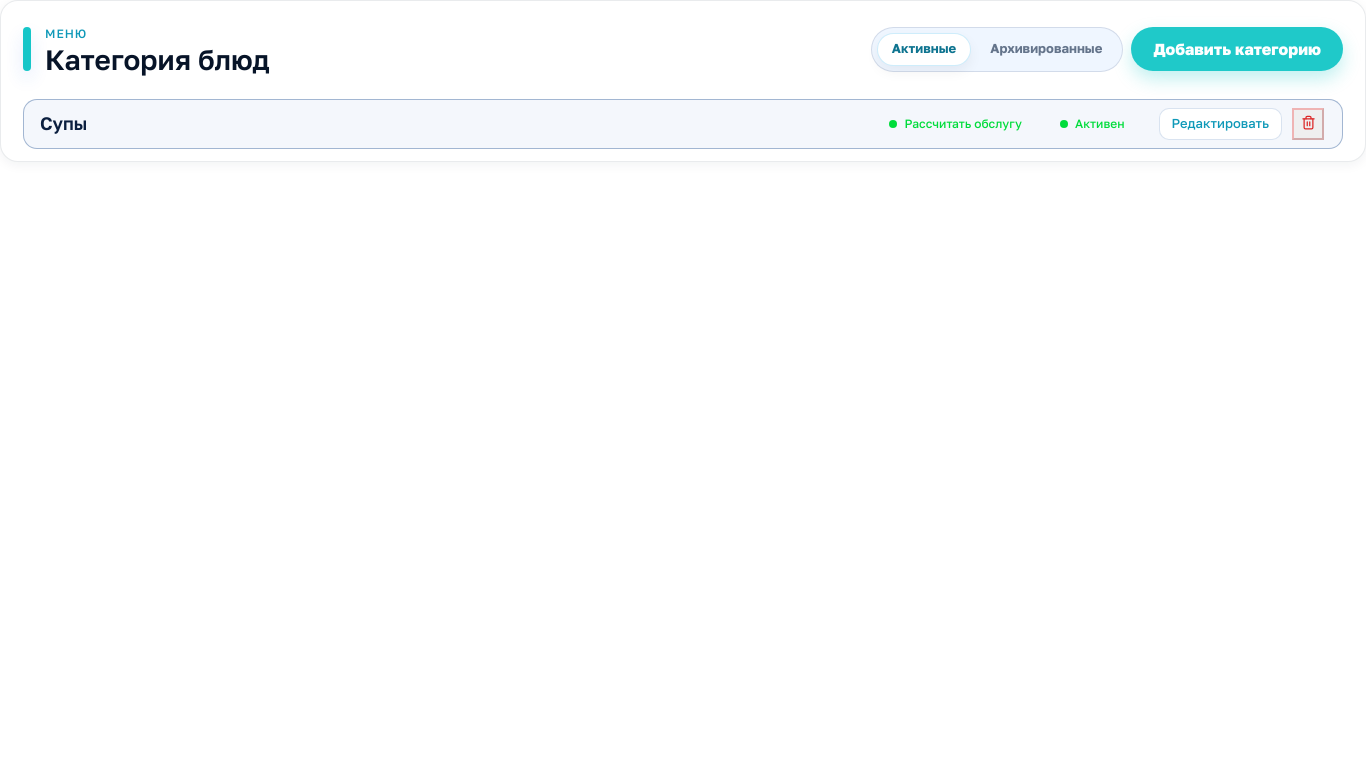
it: Dish Categories V2 follow-up › renders Place-family rows with service pill, no hash text, and opens the centered Add modal
The width and height of the screenshot is (1366, 768).
expect the heading "Категория блюд" is shown: met, box top-left (45, 39), bottom-right (270, 81)
expect the button "Добавить категорию" is shown: met, box top-left (1131, 27), bottom-right (1343, 71)
// Archived tab holds the inactive row with Restore + permanent Delete.
Click the tab "Архивированные": (1046, 49) top-left (975, 32), bottom-right (1117, 66)
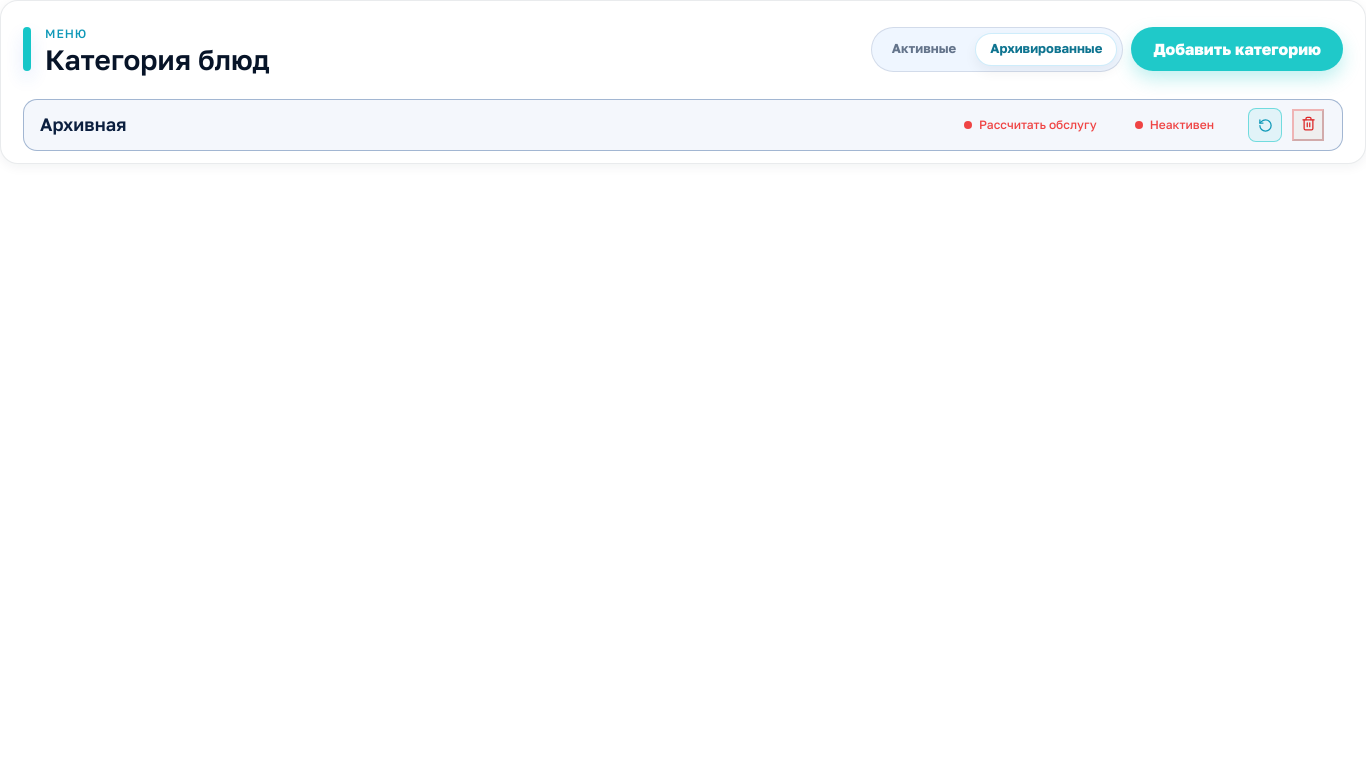
expect the text "Архивная" is shown: met, box top-left (40, 113), bottom-right (126, 137)
expect the text "Неактивен" is shown: met, box top-left (1135, 117), bottom-right (1214, 132)
expect the button "Редактировать" is gone: met
Click the tab "Активные": (924, 49) top-left (877, 32), bottom-right (971, 66)
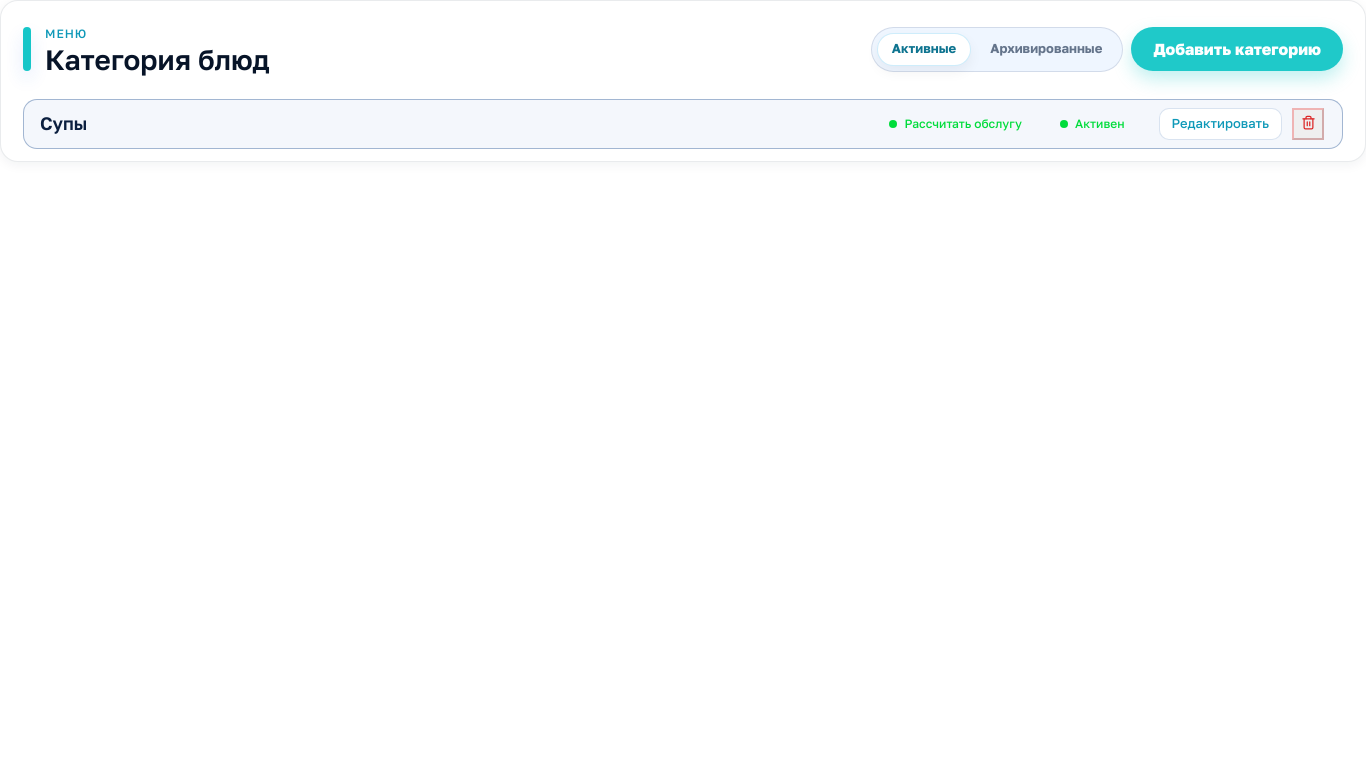
expect the text "Супы" is shown: met, box top-left (40, 112), bottom-right (87, 136)
Click the button "Редактировать": (1220, 124) top-left (1159, 108), bottom-right (1282, 140)
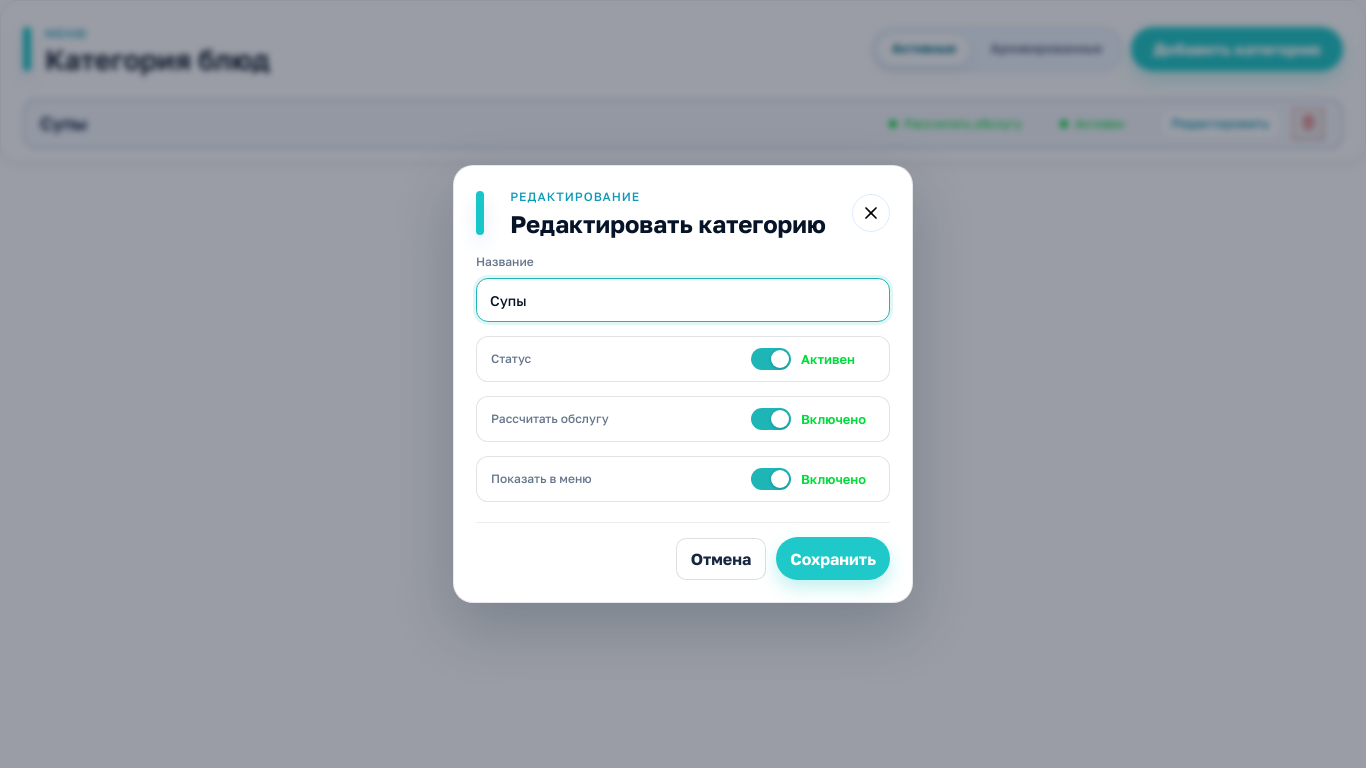
expect the dialog "Редактировать категорию" is shown: met, box top-left (453, 165), bottom-right (913, 603)
expect the field with placeholder "Название категории" holds "Супы": met, box top-left (476, 278), bottom-right (890, 322)
expect the dialog "Редактировать категорию" shows "Статус": met, box top-left (491, 351), bottom-right (531, 366)
Click the button "Отмена": (721, 559) top-left (676, 538), bottom-right (766, 580)
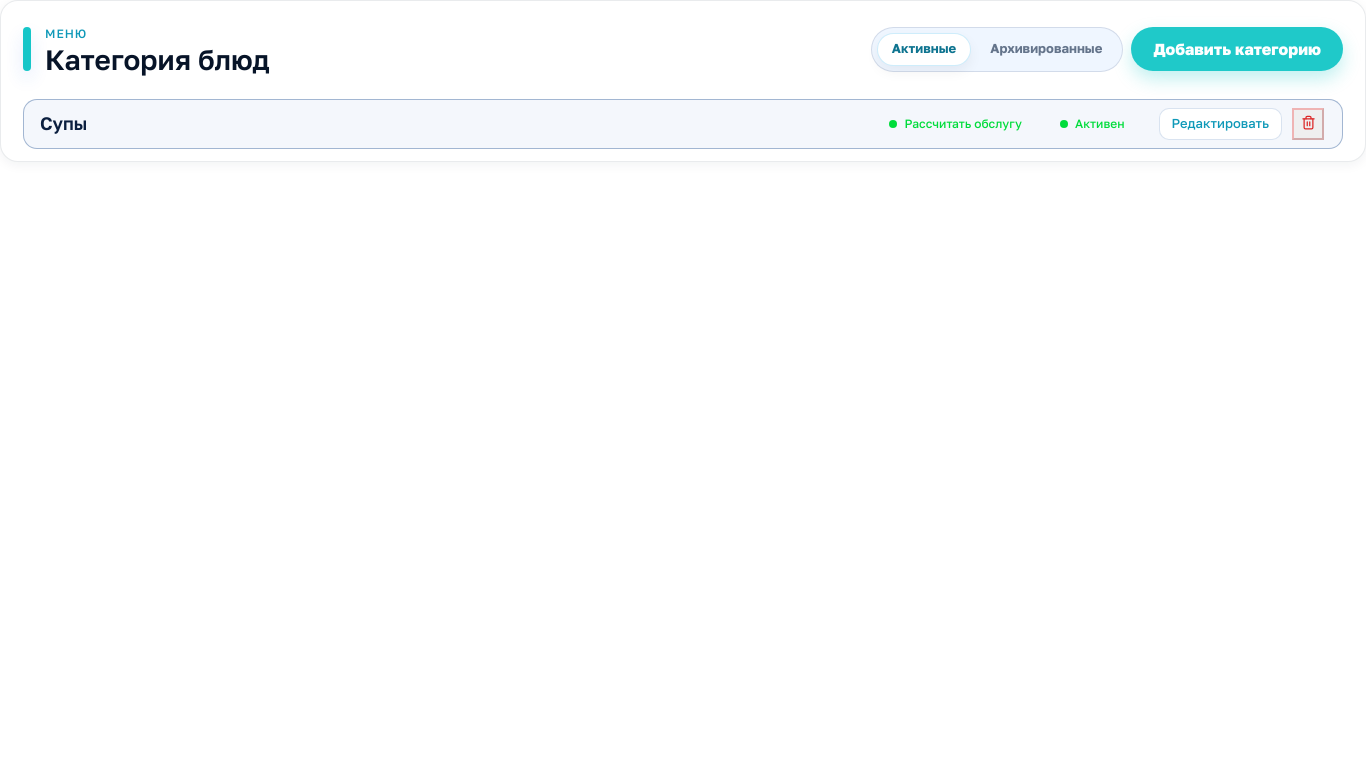
expect the heading "Редактировать категорию" is gone: met
// V2: Add opens a centered OWNER modal with the required fields.
Click the button "Добавить категорию": (1237, 49) top-left (1131, 27), bottom-right (1343, 71)
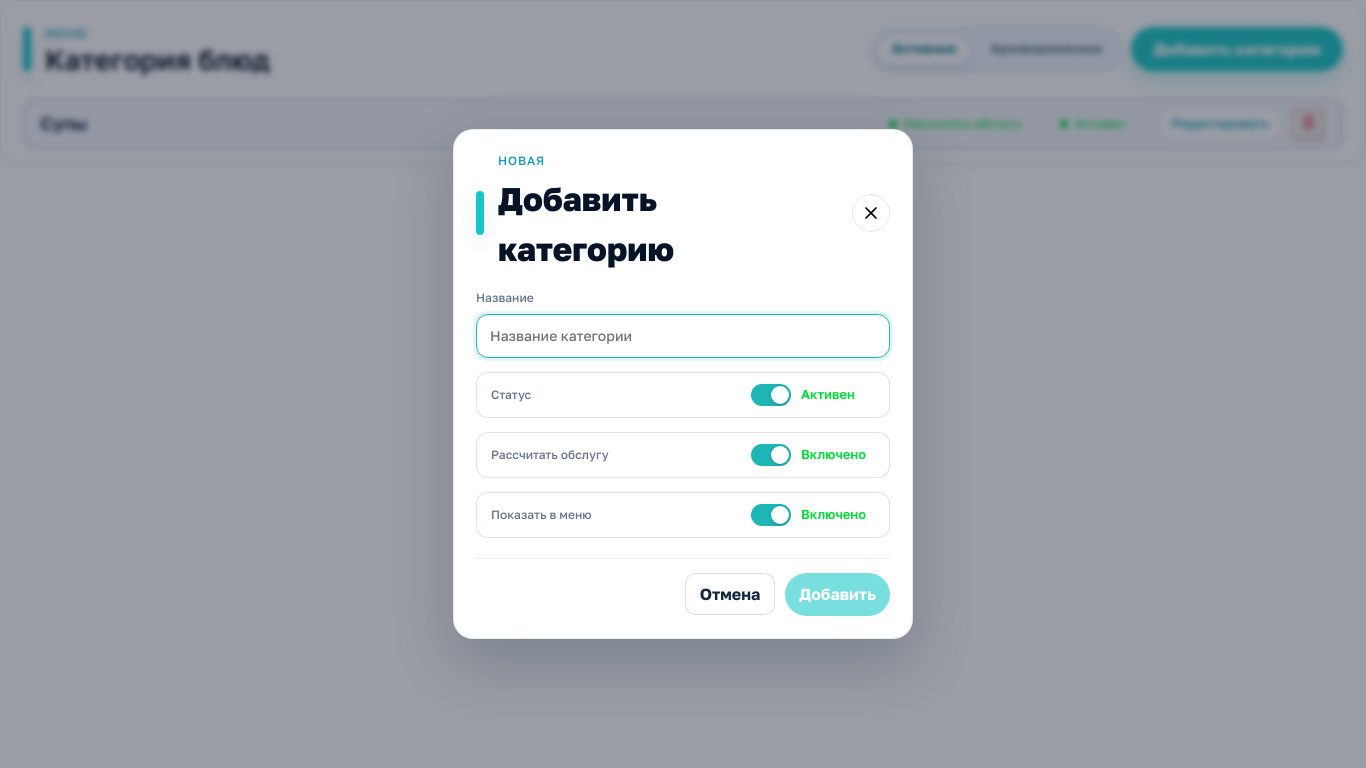
expect the dialog "Добавить категорию" is shown: met, box top-left (453, 129), bottom-right (913, 639)
expect the field with placeholder "Название категории" is empty: met, box top-left (476, 314), bottom-right (890, 358)
expect the dialog "Добавить категорию" shows "Название": met, box top-left (476, 290), bottom-right (534, 305)
// Modal closes cleanly without creating anything.
Click the button "Отмена": (730, 594) top-left (685, 573), bottom-right (775, 615)
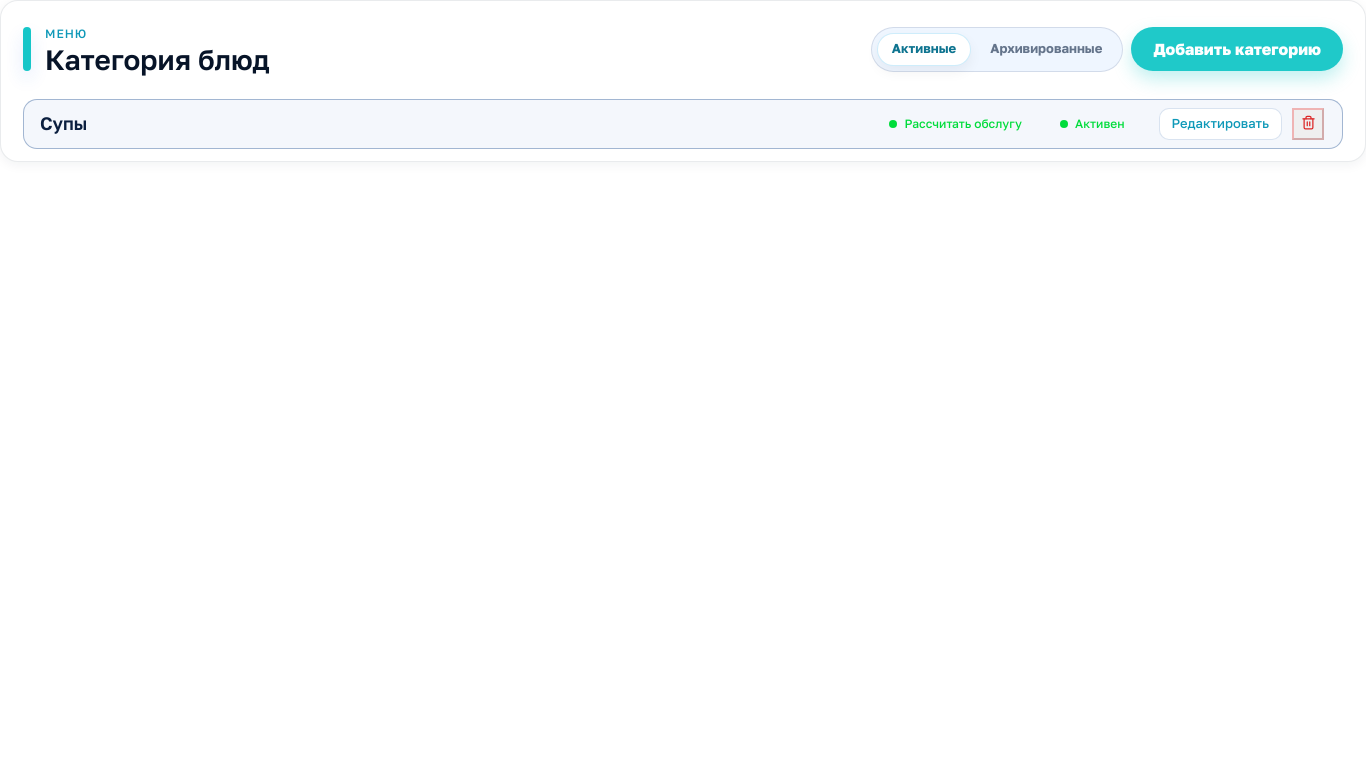
expect the dialog is gone: met
